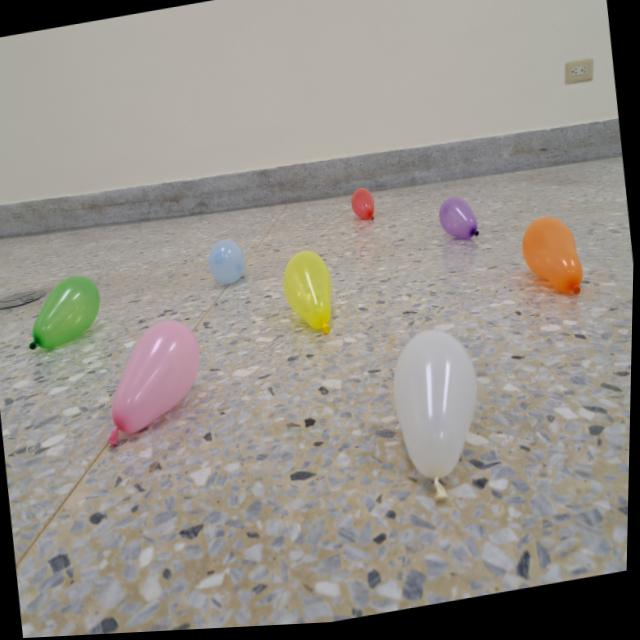other: (387, 328, 491, 513), (93, 315, 212, 449), (23, 272, 107, 354), (518, 217, 587, 309), (279, 248, 339, 344), (436, 197, 481, 248), (207, 239, 247, 290)
red: (350, 188, 376, 227)
